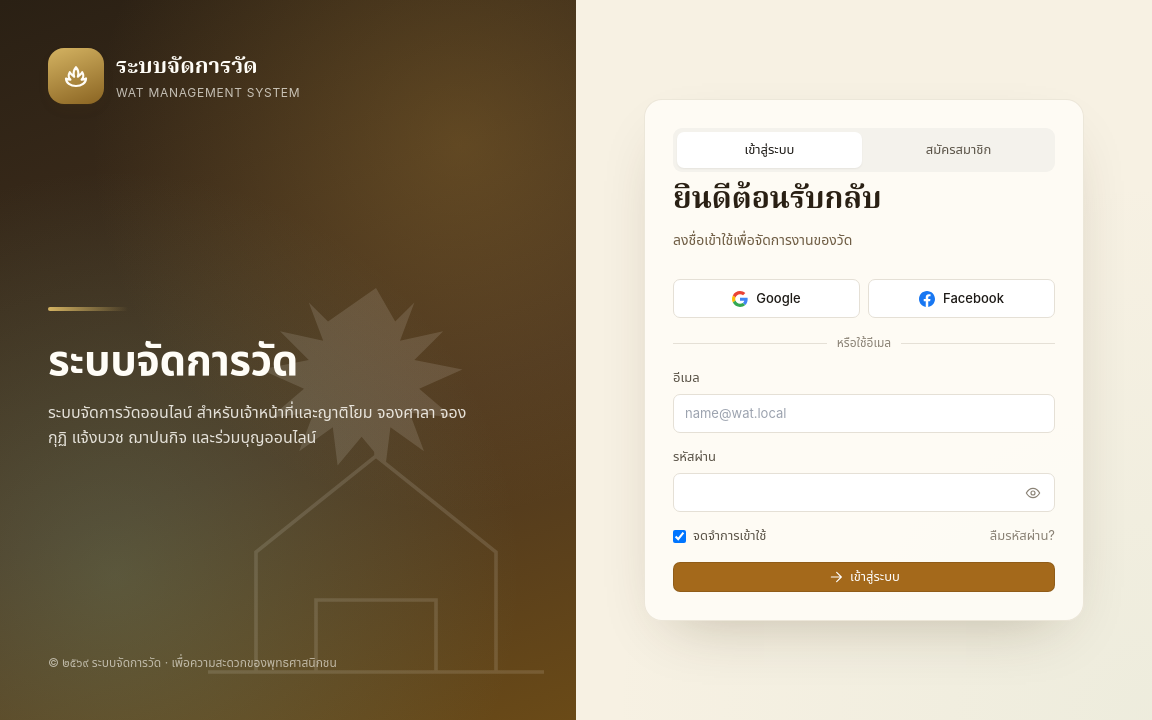
Test: LoginScreen — register/social flows › renders social sign-in with brand logos and reports 'coming soon' on click
Check: the 3rd icon is shown, box [732, 291, 748, 307]
Click the button with class "soc-btn" showing "Google" at {"x": 766, "y": 299}, box [673, 279, 860, 318]
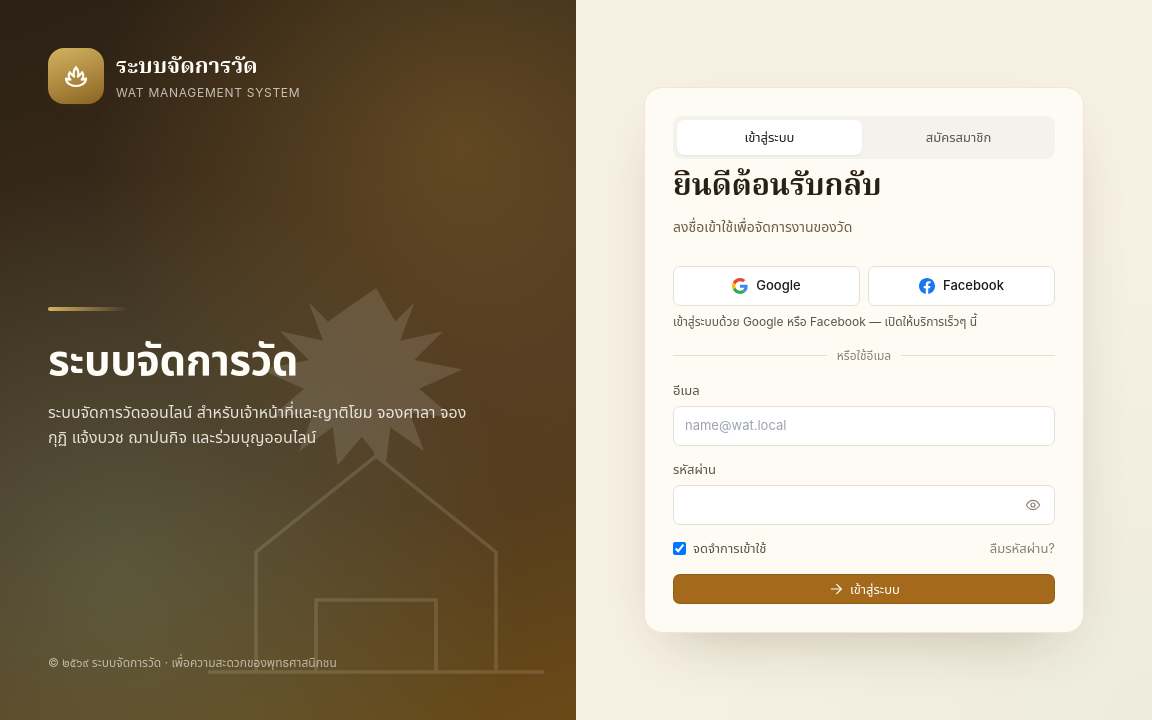
Check: the button with class "auth-link" is disabled, box [990, 539, 1055, 558]
Check: the text "เปิดให้บริการเร็วๆ นี้" is shown, box [673, 314, 977, 329]
